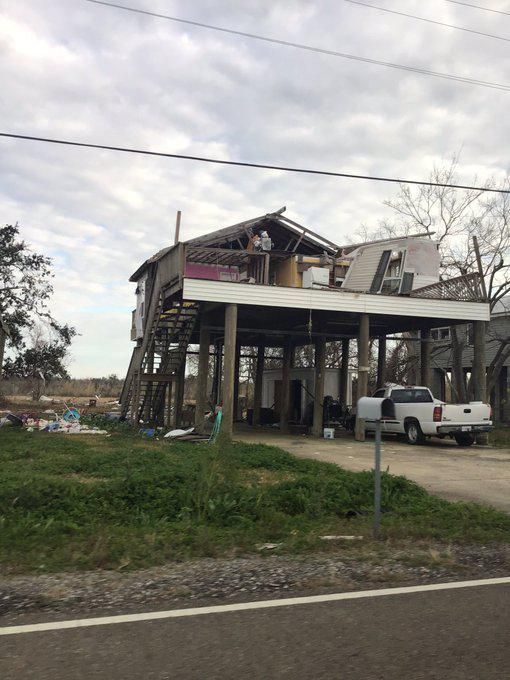destroyed: (125, 185, 510, 435)
